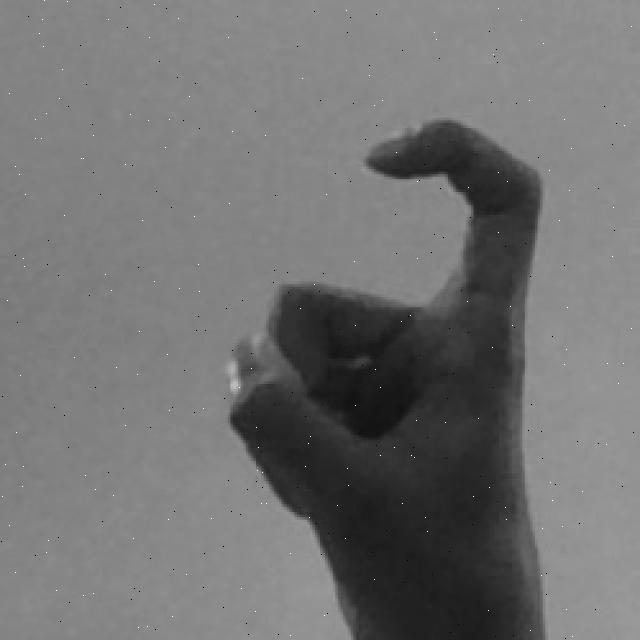X: (230, 110, 560, 640)
